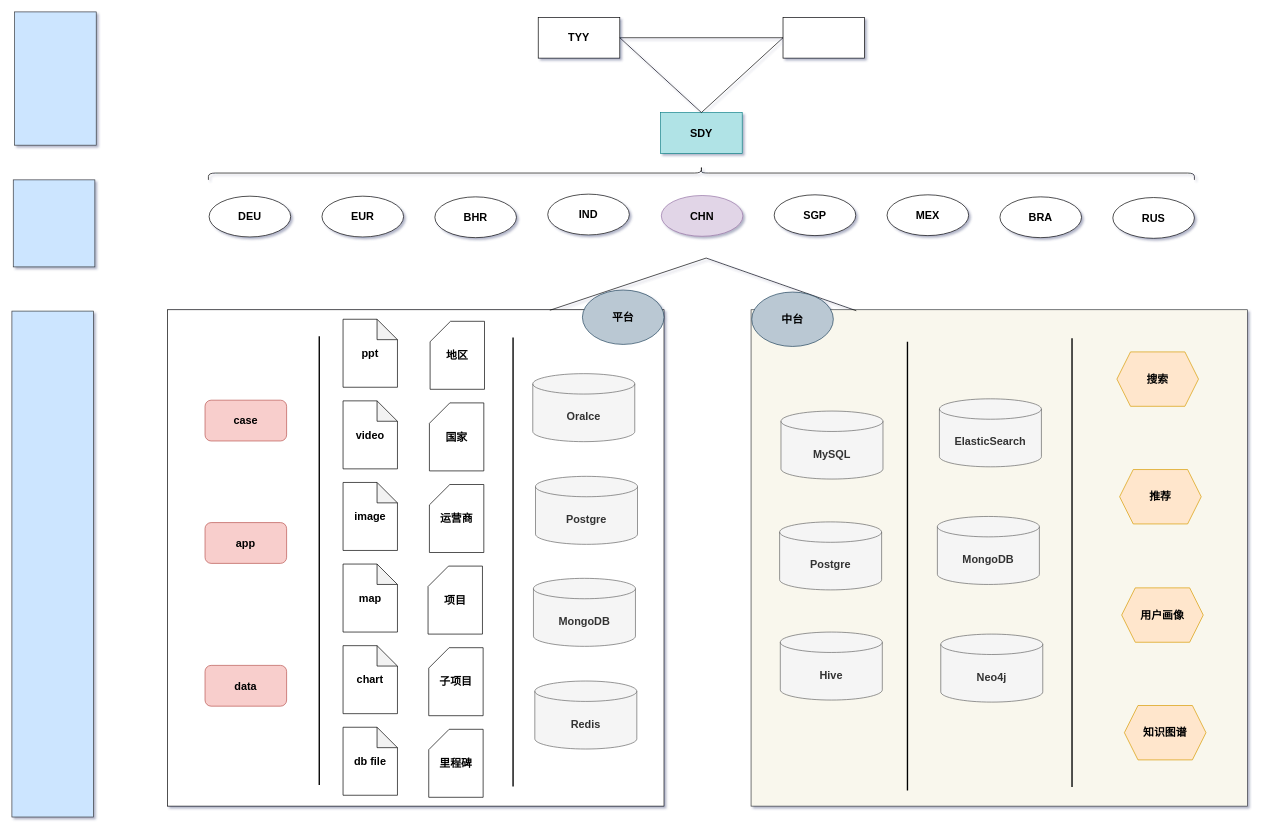
Some shapes in this 1263 by 833 pixel diagram are drawn without their labels. The box of each missing label's shape, as (x1, y1, x2, y2) in pixels:
FAY: (782, 17, 865, 58)
全球节点: (13, 179, 95, 267)
合作部门: (14, 11, 96, 145)
数据流向: (11, 310, 94, 817)
